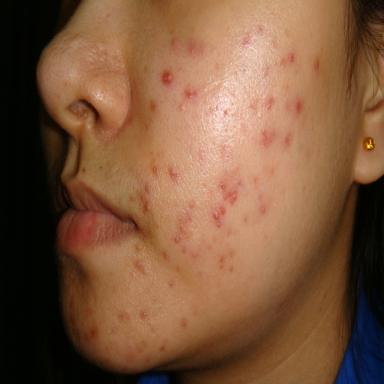acne: (260, 129, 275, 146), (168, 165, 179, 183), (223, 190, 237, 204), (117, 311, 131, 323), (134, 260, 145, 275), (162, 71, 173, 84), (265, 97, 275, 110), (151, 161, 159, 175), (242, 34, 251, 46), (295, 101, 301, 115), (139, 310, 148, 319), (187, 90, 197, 98), (314, 58, 319, 71), (288, 53, 294, 63), (91, 327, 97, 337), (181, 317, 187, 327), (213, 211, 219, 220), (145, 185, 151, 194), (220, 183, 226, 190), (163, 252, 169, 259), (281, 59, 287, 66), (172, 38, 177, 46), (286, 101, 290, 111), (220, 206, 224, 215), (181, 103, 185, 112), (189, 47, 193, 55), (174, 237, 179, 243), (130, 195, 135, 201), (285, 137, 289, 144), (261, 207, 265, 214), (223, 110, 228, 115), (217, 222, 221, 227), (169, 281, 173, 286)
